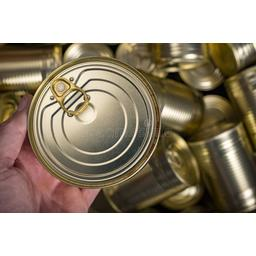metal: (22, 53, 170, 193), (114, 121, 202, 211), (190, 117, 256, 211)
